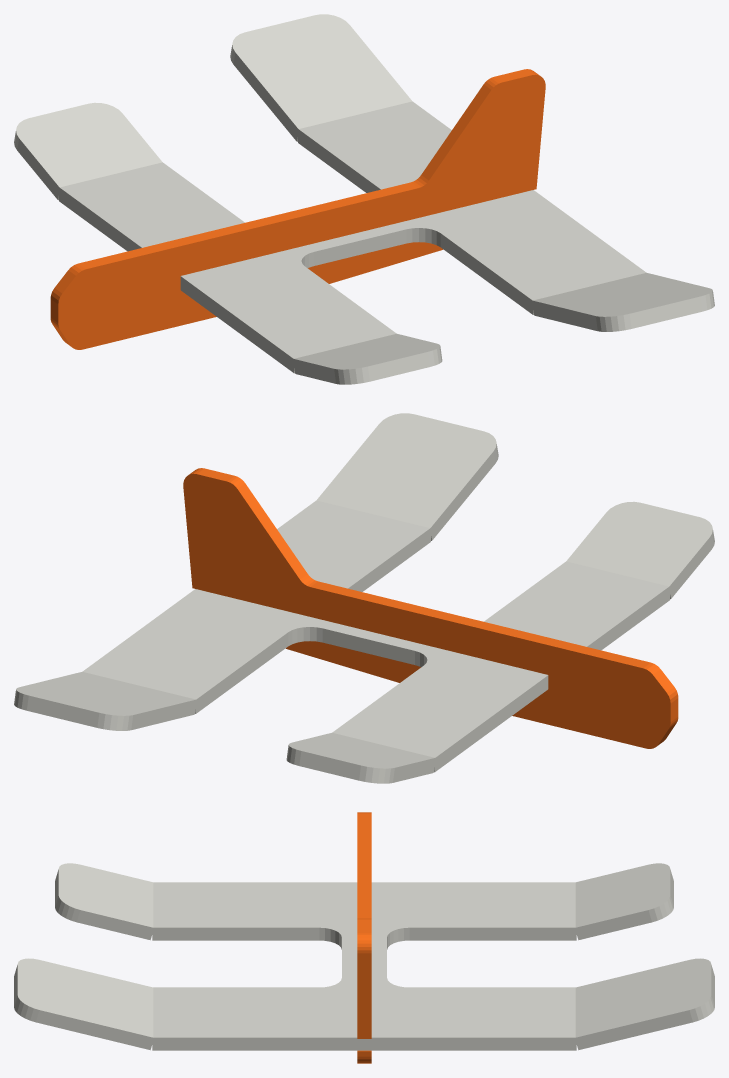
3 renders of one model, top to bottom at view 1: azimuth 30°, elevation 25°; view 2: azimuth 150°, elevation 25°; view 3: azimuth 270°, elevation 25°, orthographic. The views are drawn at different scales.
Visible parts, largest first — view 1: H, V; view 2: H, V; view 3: H, V.
Boxes of the visible parts, x1=… form: H: x1=14, y1=14, x2=714, y2=384; V: x1=50, y1=69, x2=545, y2=349; H: x1=14, y1=413, x2=714, y2=783; V: x1=183, y1=468, x2=678, y2=748; H: x1=14, y1=863, x2=714, y2=1050; V: x1=357, y1=812, x2=371, y2=1063.
Bounding box in the file's own units: 0.1795 × 0.058 × 0.2479.
